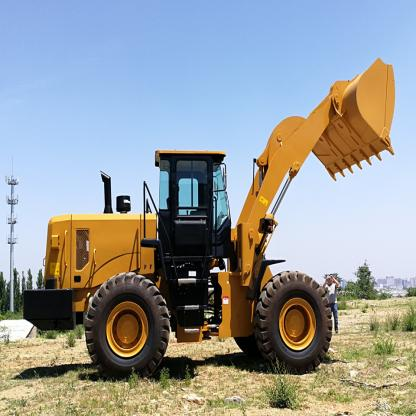bull_dozer/loader/grader: (15, 46, 402, 383)
